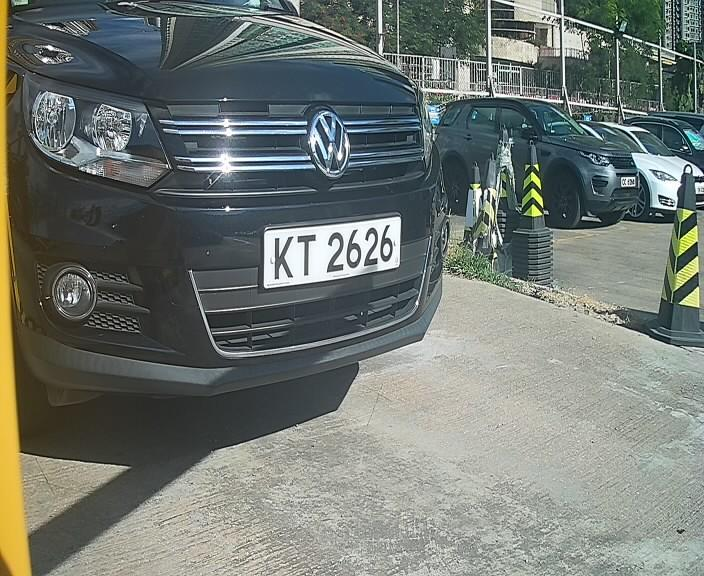privatecar: (7, 8, 466, 415)
